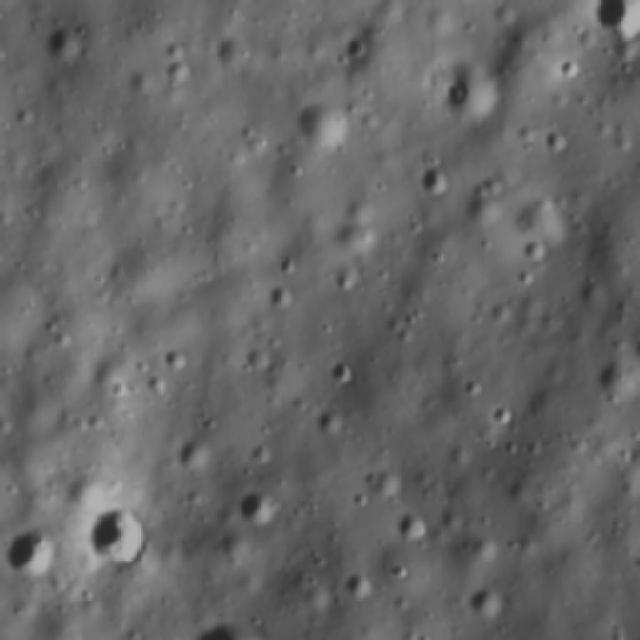crater: (84, 487, 164, 575), (414, 56, 504, 127), (9, 505, 62, 584), (289, 95, 353, 157), (33, 6, 87, 69), (172, 609, 279, 640), (583, 0, 640, 52), (591, 355, 640, 413), (234, 480, 280, 529), (392, 505, 432, 549), (411, 155, 455, 194), (542, 122, 578, 160), (629, 317, 640, 369)
